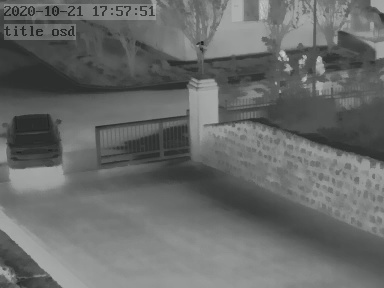person: (316, 56, 328, 85)
vehicle: (1, 106, 75, 173)
